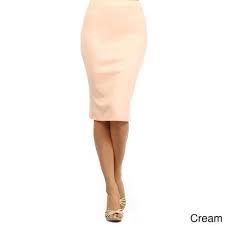C_skirt: (73, 2, 160, 134)
